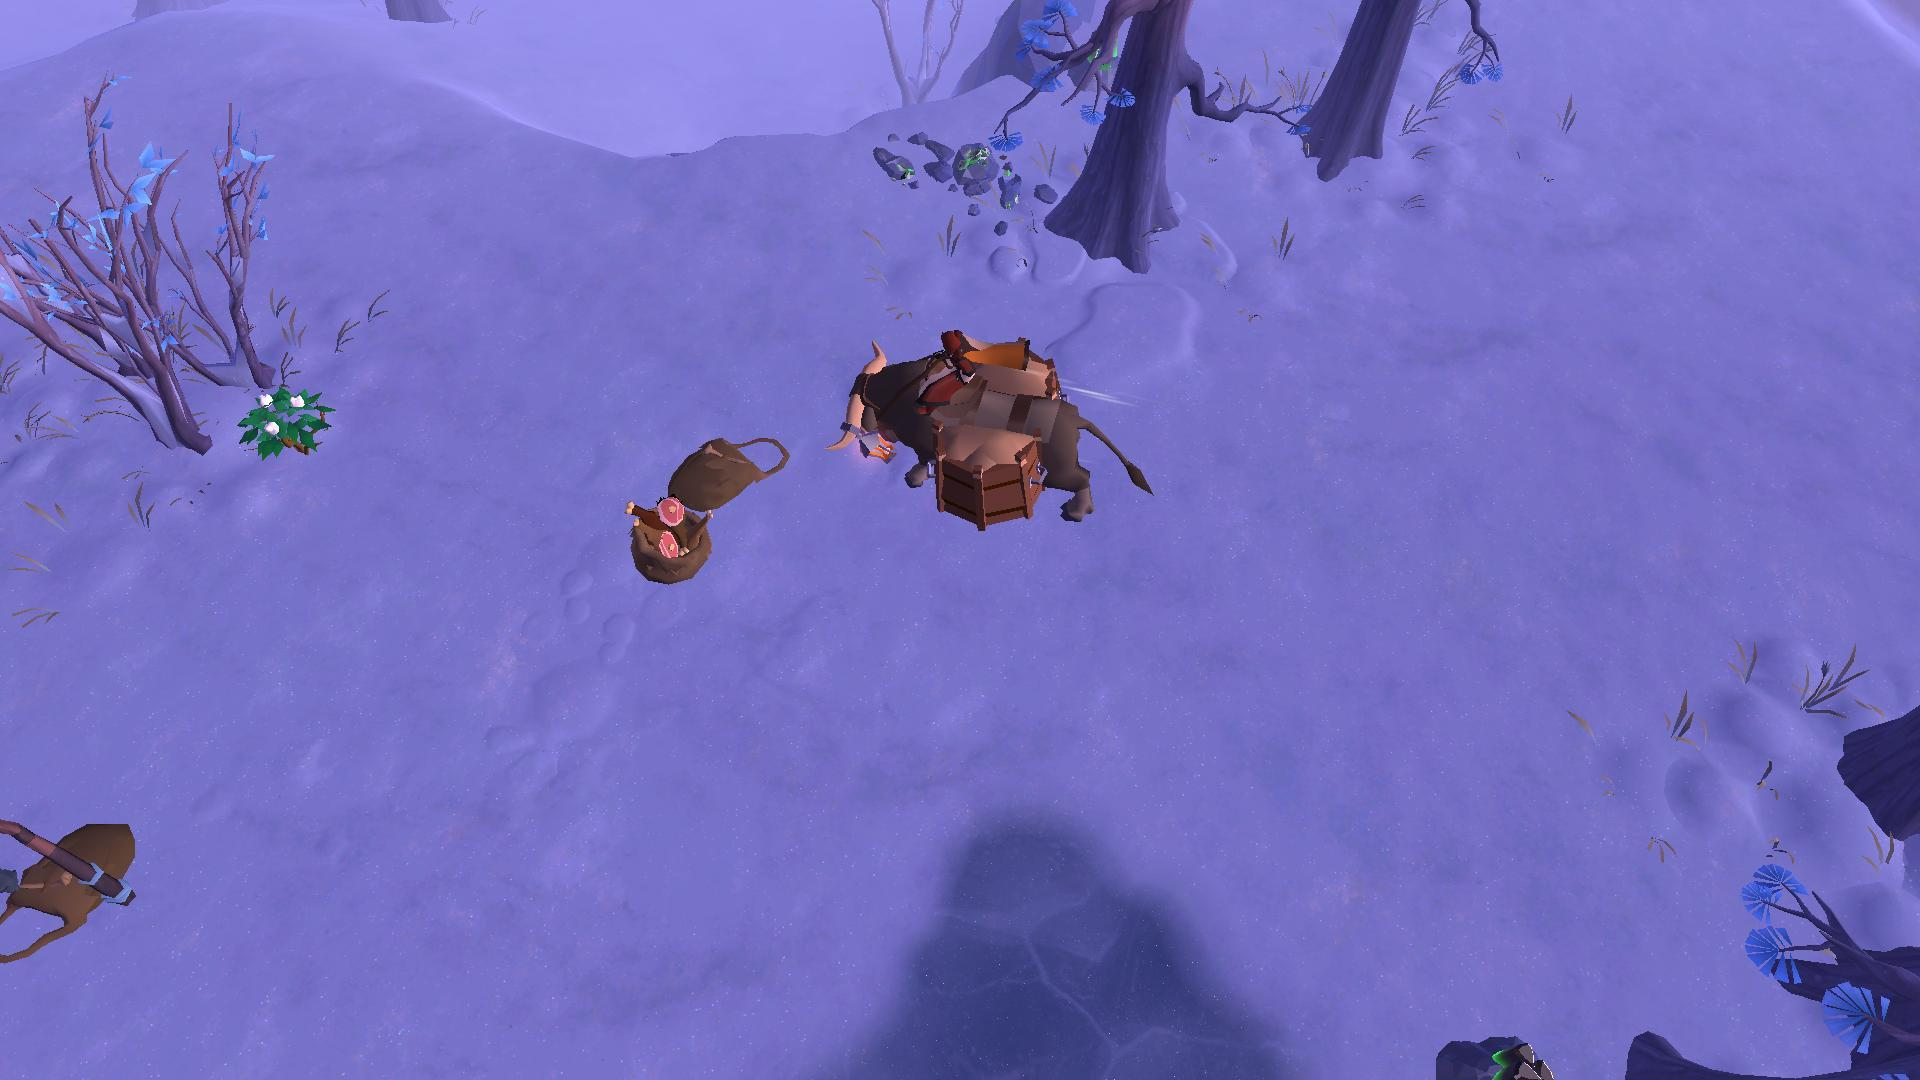fiber_t3: (236, 381, 336, 465)
